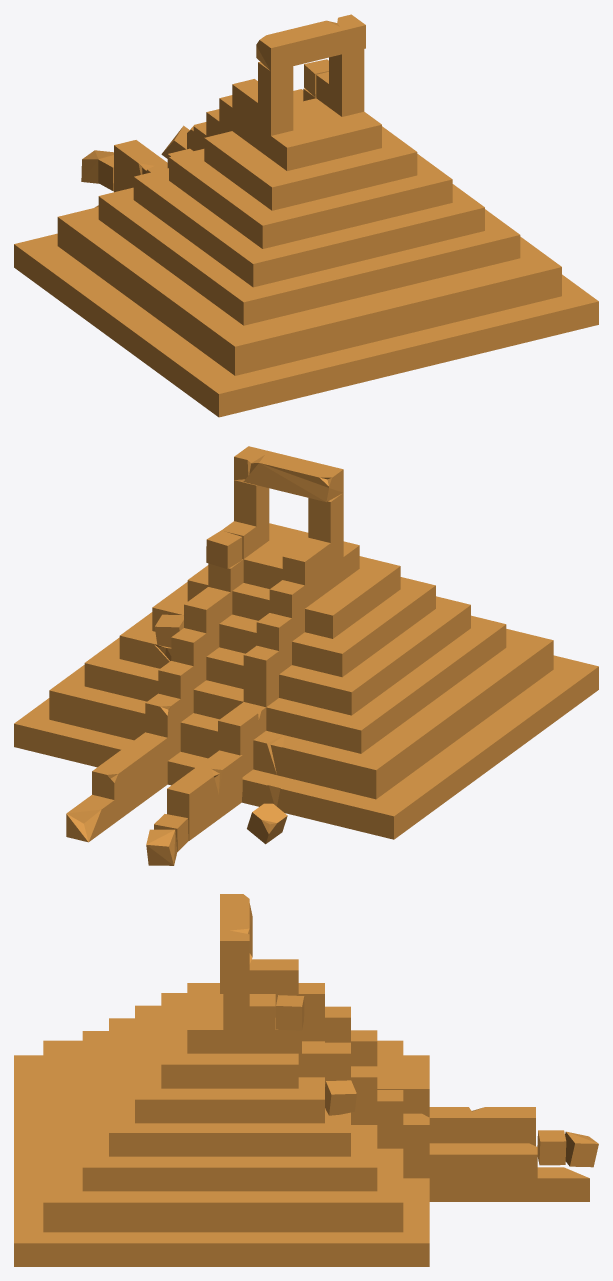
The picture shows the model from 3 angles, top to bottom: view 1: azimuth 30°, elevation 25°; view 2: azimuth 150°, elevation 25°; view 3: azimuth 270°, elevation 25°; orthographic projection.
Size of the model in its own units: 1.36 by 0.9215 by 1.79.
